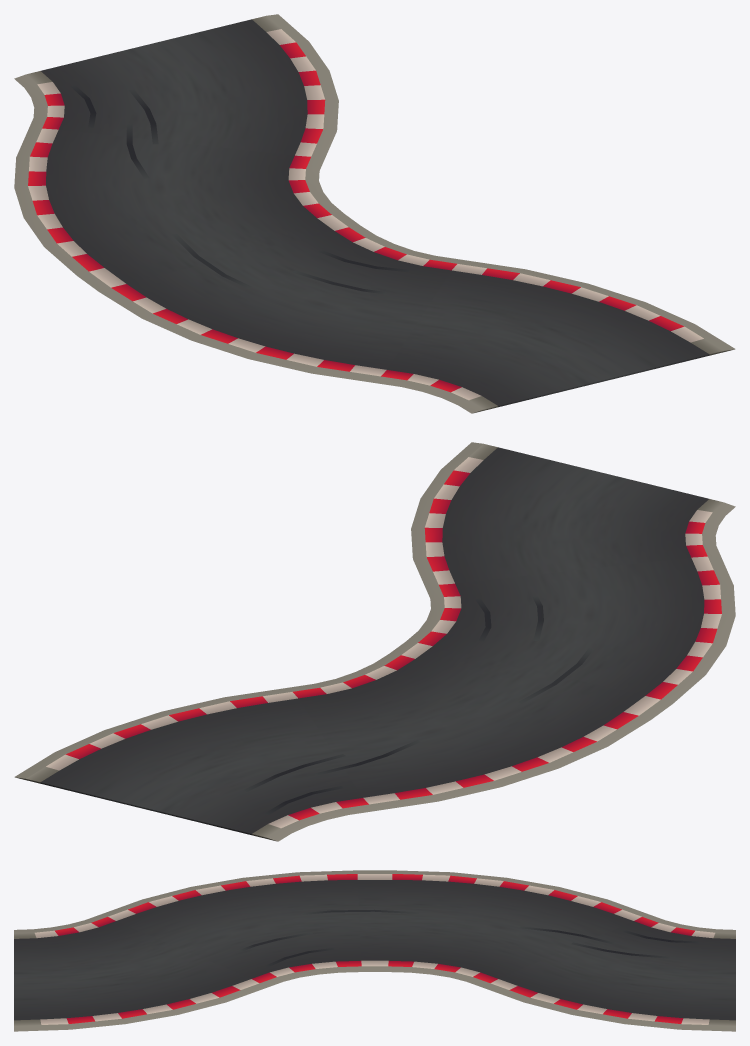
The model's file is Serpentine_1A_Medium.glb.
The picture shows the model from 3 angles, top to bottom: view 1: azimuth 30°, elevation 25°; view 2: azimuth 150°, elevation 25°; view 3: azimuth 270°, elevation 25°; orthographic projection. The views are drawn at different scales.
Parts seen in each view (by area): view 1: Serpentine_1A_Medium, Serpentine_1A_Medium_Skidmarks; view 2: Serpentine_1A_Medium, Serpentine_1A_Medium_Skidmarks; view 3: Serpentine_1A_Medium, Serpentine_1A_Medium_Skidmarks.
Part boxes in pixels (x1,y1,x2,y2): Serpentine_1A_Medium: (14,14,735,413); Serpentine_1A_Medium_Skidmarks: (70,85,408,294); Serpentine_1A_Medium: (14,442,735,841); Serpentine_1A_Medium_Skidmarks: (243,596,593,814); Serpentine_1A_Medium: (14,870,735,1031); Serpentine_1A_Medium_Skidmarks: (239,909,698,966).
Bounding box in the file's own units: 31.72 × 0.104 × 60.
Materials: 1 (1 with a texture image).
